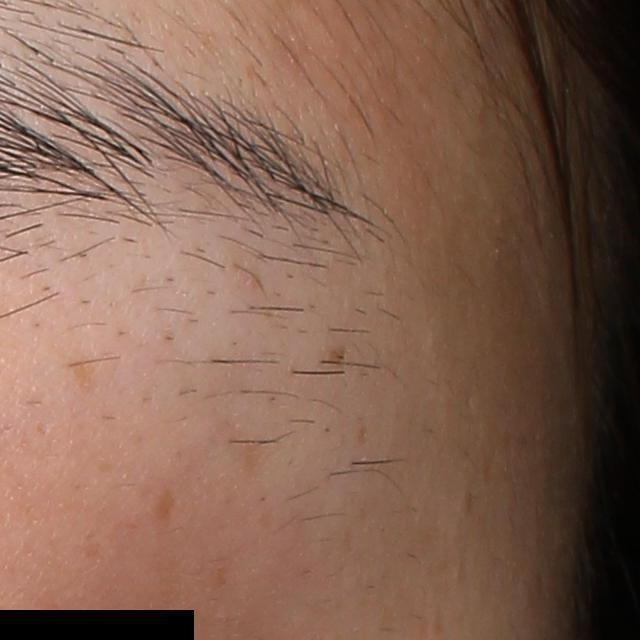melasma: (68, 354, 103, 392), (151, 483, 177, 525)
